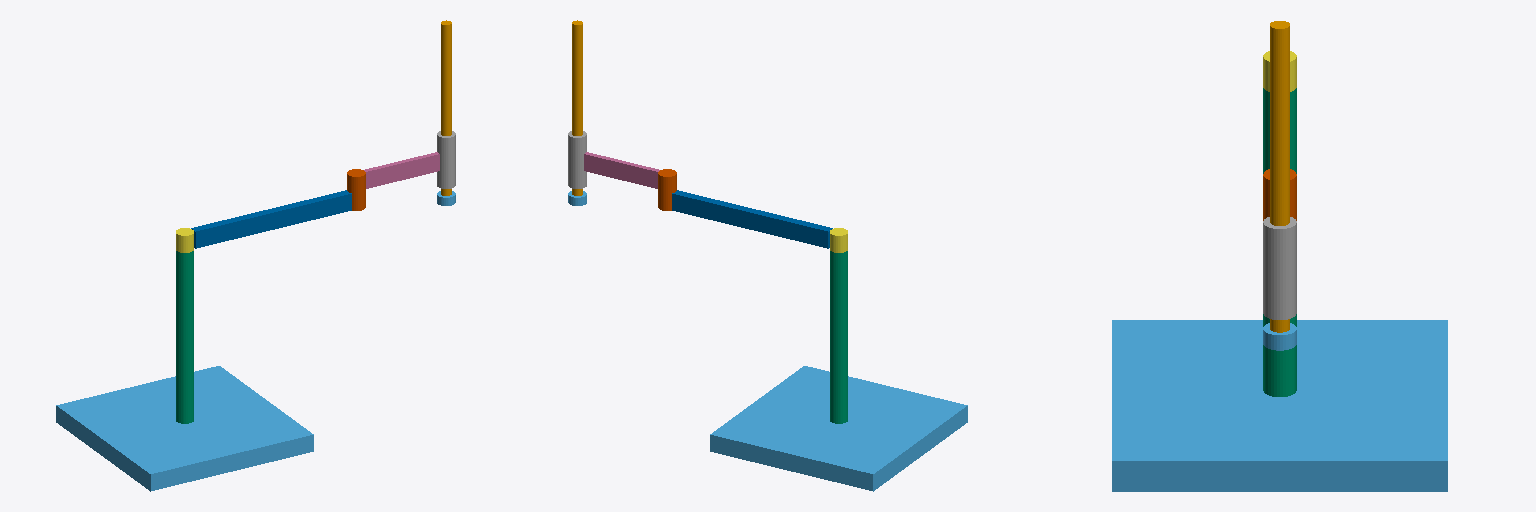
The robot description file, URDF, robot "simple_arm":
<robot name="simple_arm">
  <link name="world"/>
  <joint name="arm_base_joint" type="fixed" >
    <parent link="world" />
    <child link="arm_base" />
    <origin xyz="0 0 0" rpy="0 0 0" />
  </joint>
  <link name="arm_base">
    <inertial>
      <mass value="100.0" />
      <origin xyz="0 0 0" /> 
      <inertia  ixx="1.0" ixy="0.0"  ixz="0.0"  iyy="100.0"  iyz="0.0"  izz="1.0" />
    </inertial>
    <visual>
      <origin xyz="0 0 0.05" rpy="0 0 0" />
      <geometry>
        <box size="1 1 0.1" />
      </geometry>
    </visual>
    <collision>
      <origin xyz="0 0 0.05" rpy="0 0 0" />
      <geometry>
        <box size="1 1 0.1" />
      </geometry>
    </collision>
  </link>
  <gazebo reference="arm_base">
    <material>Gazebo/Blue</material>
    <turnGravityOff>false</turnGravityOff>
  </gazebo>



  <joint name="arm_trunk_joint" type="fixed" >
    <parent link="arm_base" />
    <child link="arm_trunk" />
    <origin xyz="0 0 0.1" rpy="0 0 0" />
  </joint>
  <link name="arm_trunk">
    <inertial>
      <mass value="1.0" />
      <origin xyz="0 0 0" /> 
      <inertia  ixx="0.1" ixy="0.0"  ixz="0.0"  iyy="0.1"  iyz="0.0"  izz="0.01" />
    </inertial>
    <visual>
      <origin xyz="0 0 0.5" rpy="0 0 0" />
      <geometry>
        <cylinder radius="0.05" length="1" />
      </geometry>
    </visual>
    <collision>
      <origin xyz="0 0 0.5" rpy="0 0 0" />
      <geometry>
        <cylinder radius="0.05" length="1" />
      </geometry>
    </collision>
  </link>
  <gazebo reference="arm_trunk">
    <material>Gazebo/Red</material>
    <turnGravityOff>false</turnGravityOff>
  </gazebo>



  <joint name="arm_shoulder_pan_joint" type="continuous" >
    <parent link="arm_trunk" />
    <child link="arm_shoulder_pan" />
    <origin xyz="0 0 1.0" rpy="0 0 0" />
    <axis xyz="0 0 1"/>
  </joint>
  <link name="arm_shoulder_pan">
    <inertial>
      <mass value="0.1" />
      <origin xyz="0 0 0" /> 
      <inertia  ixx="0.01" ixy="0.0"  ixz="0.0"  iyy="0.01"  iyz="0.0"  izz="0.001" />
    </inertial>
    <visual>
      <origin xyz="0 0 0.05" rpy="0 0 0" />
      <geometry>
        <cylinder radius="0.05" length="0.1" />
      </geometry>
    </visual>
    <collision>
      <origin xyz="0 0 0.05" rpy="0 0 0" />
      <geometry>
        <cylinder radius="0.05" length="0.1" />
      </geometry>
    </collision>
  </link>
  <gazebo reference="arm_shoulder_pan">
    <material>Gazebo/Yellow</material>
    <turnGravityOff>false</turnGravityOff>
  </gazebo>


  <joint name="arm_shoulder_joint" type="fixed" >
    <parent link="arm_shoulder_pan" />
    <child link="arm_shoulder" />
    <origin xyz="0.05 0 0.0" rpy="0 0 0" />
  </joint>
  <link name="arm_shoulder">
    <inertial>
      <mass value="1.0" />
      <origin xyz="0 0 0" /> 
      <inertia  ixx="0.001" ixy="0.0"  ixz="0.0"  iyy="0.01"  iyz="0.0"  izz="0.01" />
    </inertial>
    <visual>
      <origin xyz="0.5 0 0.05" rpy="0 0 0" />
      <geometry>
        <box size="1.0 0.05 0.1" />
      </geometry>
    </visual>
    <collision>
      <origin xyz="0.5 0 0.05" rpy="0 0 0" />
      <geometry>
        <box size="1.0 0.05 0.1" />
      </geometry>
    </collision>
  </link>
  <gazebo reference="arm_shoulder">
    <material>Gazebo/Yellow</material>
    <turnGravityOff>false</turnGravityOff>
  </gazebo>


  <joint name="arm_elbow_pan_joint" type="continuous" >
    <parent link="arm_shoulder" />
    <child link="arm_elbow_pan" />
    <origin xyz="1.0 0 0" rpy="0 0 0" />
    <axis xyz="0 0 1"/>
  </joint>
  <link name="arm_elbow_pan">
    <inertial>
      <mass value="0.1" />
      <origin xyz="0 0 0" /> 
      <inertia  ixx="0.01" ixy="0.0"  ixz="0.0"  iyy="0.01"  iyz="0.0"  izz="0.001" />
    </inertial>
    <visual>
      <origin xyz="0 0 0.1" rpy="0 0 0" />
      <geometry>
        <cylinder radius="0.05" length="0.2" />
      </geometry>
    </visual>
    <collision>
      <origin xyz="0 0 0.1" rpy="0 0 0" />
      <geometry>
        <cylinder radius="0.05" length="0.2" />
      </geometry>
    </collision>
  </link>
  <gazebo reference="arm_elbow_pan">
    <material>Gazebo/Red</material>
    <turnGravityOff>false</turnGravityOff>
  </gazebo>


  <joint name="arm_elbow_joint" type="fixed" >
    <parent link="arm_elbow_pan" />
    <child link="arm_elbow" />
    <origin xyz="0.05 0 0.1" rpy="0 0 0" />
  </joint>
  <link name="arm_elbow">
    <inertial>
      <mass value="1.0" />
      <origin xyz="0 0 0" /> 
      <inertia  ixx="0.001" ixy="0.0"  ixz="0.0"  iyy="0.01"  iyz="0.0"  izz="0.01" />
    </inertial>
    <visual>
      <origin xyz="0.25 0 0.05" rpy="0 0 0" />
      <geometry>
        <box size="0.5 0.03 0.1" />
      </geometry>
    </visual>
    <collision>
      <origin xyz="0.25 0 0.05" rpy="0 0 0" />
      <geometry>
        <box size="0.5 0.03 0.1" />
      </geometry>
    </collision>
  </link>
  <gazebo reference="arm_elbow">
    <material>Gazebo/Yellow</material>
    <turnGravityOff>false</turnGravityOff>
  </gazebo>

  <joint name="arm_wrist_joint" type="fixed" >
    <parent link="arm_elbow" />
    <child link="arm_wrist" />
    <origin xyz="0.5 0 -0.1" rpy="0 0 0" />
  </joint>
  <link name="arm_wrist">
    <inertial>
      <mass value="0.1" />
      <origin xyz="0 0 0" /> 
      <inertia  ixx="0.01" ixy="0.0"  ixz="0.0"  iyy="0.01"  iyz="0.0"  izz="0.001" />
    </inertial>
    <visual>
      <origin xyz="0 0 0.15" rpy="0 0 0" />
      <geometry>
        <cylinder radius="0.05" length="0.3" />
      </geometry>
    </visual>
    <collision>
      <origin xyz="0 0 0.15" rpy="0 0 0" />
      <geometry>
        <cylinder radius="0.05" length="0.3" />
      </geometry>
    </collision>
  </link>
  <gazebo reference="arm_wrist">
    <material>Gazebo/Red</material>
    <turnGravityOff>false</turnGravityOff>
  </gazebo>


  <joint name="arm_wrist_lift_joint" type="prismatic" >
    <parent link="arm_wrist" />
    <child link="arm_wrist_lift" />
    <origin xyz="0 0 -0.05" rpy="0 0 0" />
    <limit lower="-0.8" upper="0.1" effort="1000" velocity="1000"/>
    <axis xyz="0 0 1"/>
  </joint>
  <link name="arm_wrist_lift">
    <inertial>
      <mass value="0.1" />
      <origin xyz="0 0 0" /> 
      <inertia  ixx="0.01" ixy="0.0"  ixz="0.0"  iyy="0.01"  iyz="0.0"  izz="0.001" />
    </inertial>
    <visual>
      <origin xyz="0 0 0.5" rpy="0 0 0" />
      <geometry>
        <cylinder radius="0.03" length="1.0" />
      </geometry>
    </visual>
    <collision>
      <origin xyz="0 0 0.5" rpy="0 0 0" />
      <geometry>
        <cylinder radius="0.03" length="1.0" />
      </geometry>
    </collision>
  </link>
  <gazebo reference="arm_wrist_lift">
    <material>Gazebo/Yellow</material>
    <turnGravityOff>false</turnGravityOff>
  </gazebo>

  <joint name="arm_wrist_roll_joint" type="revolute" >
    <parent link="arm_wrist_lift" />
    <child link="arm_wrist_roll" />
    <origin xyz="0 0 -0.05" rpy="0 0 0" />
    <limit lower="-3" upper="3" effort="1000" velocity="1000"/>
    <axis xyz="0 0 1"/>
  </joint>
  <link name="arm_wrist_roll">
    <inertial>
      <mass value="0.1" />
      <origin xyz="0 0 0" /> 
      <inertia  ixx="0.01" ixy="0.0"  ixz="0.0"  iyy="0.01"  iyz="0.0"  izz="0.001" />
    </inertial>
    <visual>
      <origin xyz="0 0 0.025" rpy="0 0 0" />
      <geometry>
        <cylinder radius="0.05" length="0.05" />
      </geometry>
    </visual>
    <collision>
      <origin xyz="0 0 0.025" rpy="0 0 0" />
      <geometry>
        <cylinder radius="0.05" length="0.05" />
      </geometry>
    </collision>
  </link>
  <gazebo reference="arm_wrist_roll">
    <material>Gazebo/Red</material>
    <turnGravityOff>false</turnGravityOff>
  </gazebo>

</robot>

--- Facts derived from the render (not from the file) ---
The picture shows the robot from 3 angles, left to right: view 1: azimuth 30°, elevation 25°; view 2: azimuth 150°, elevation 25°; view 3: azimuth 270°, elevation 25°; orthographic projection.
Model simple_arm with 10 links and 9 joints (1 revolute, 2 continuous, 1 prismatic, 5 fixed), rooted at world, posed every joint at zero.
Links seen in each view (by area): view 1: arm_base, arm_shoulder, arm_trunk, arm_elbow, arm_wrist_lift, arm_wrist, arm_elbow_pan; view 2: arm_base, arm_shoulder, arm_trunk, arm_elbow, arm_wrist_lift, arm_wrist, arm_elbow_pan; view 3: arm_base, arm_wrist_lift, arm_wrist, arm_trunk, arm_wrist_roll, arm_elbow_pan, arm_shoulder_pan.
Boxes of the visible links, x1,y1,x2,y2 form: arm_base: (56,366,313,491); arm_shoulder: (191,190,351,248); arm_trunk: (176,251,193,423); arm_elbow: (364,152,439,188); arm_wrist_lift: (441,20,451,195); arm_wrist: (437,131,455,188); arm_elbow_pan: (347,169,365,210); arm_base: (710,366,967,491); arm_shoulder: (672,190,832,248); arm_trunk: (830,251,847,423); arm_elbow: (584,152,659,188); arm_wrist_lift: (572,20,582,195); arm_wrist: (568,131,586,188); arm_elbow_pan: (658,169,676,210); arm_base: (1112,320,1447,491); arm_wrist_lift: (1270,21,1289,332); arm_wrist: (1263,217,1296,319); arm_trunk: (1263,88,1296,396); arm_wrist_roll: (1263,323,1296,350); arm_elbow_pan: (1263,169,1296,220); arm_shoulder_pan: (1263,51,1296,91).
Bounding box of the posed robot: 2.15 × 1 × 2.05 m (x, y, z).
Geometry: primitives only (box / cylinder / sphere), no mesh files.